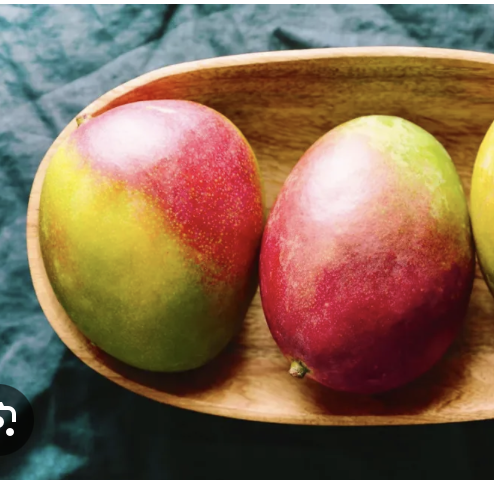mango: (18, 87, 272, 384), (242, 112, 479, 411)
